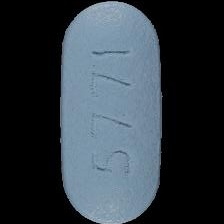54868-6358: (0, 0, 224, 224)
